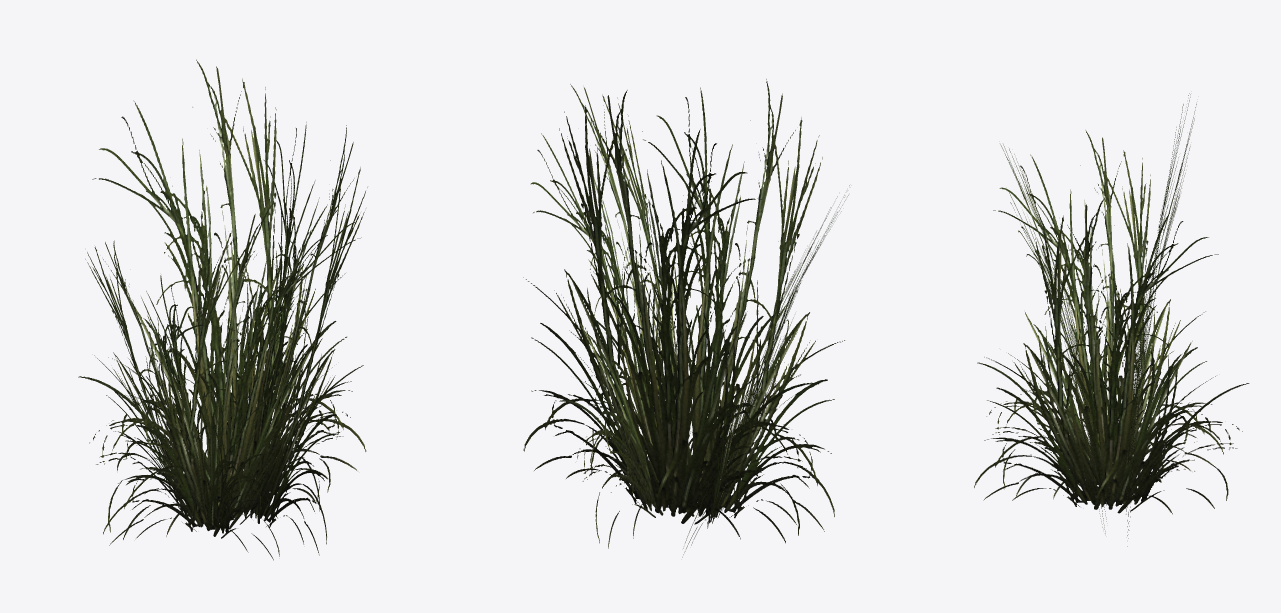
File: grass_2.obj
3 views of the same model, side by side, from view 1: azimuth 30°, elevation 25°; view 2: azimuth 150°, elevation 25°; view 3: azimuth 270°, elevation 25° (orthographic). The views are drawn at different scales.
Visible parts, largest first — view 1: grass_2; view 2: grass_2; view 3: grass_2.
Boxes of the visible parts, left/top/right/bottom form: grass_2: left=78, top=59, right=367, bottom=560; grass_2: left=523, top=79, right=849, bottom=557; grass_2: left=974, top=93, right=1249, bottom=546.
Bounding box in the file's own units: 0.7557 × 1 × 0.6727.
